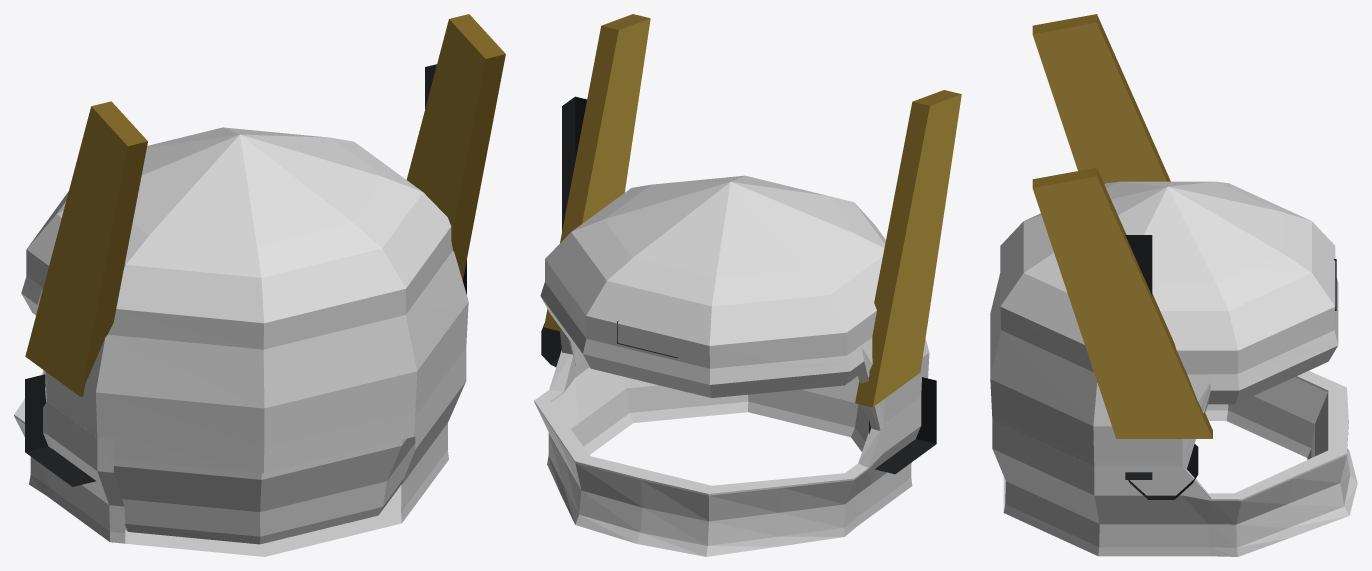
File: person_hat_recon_helm_prestige.obj
The picture shows the model from 3 angles, left to right: view 1: azimuth 30°, elevation 25°; view 2: azimuth 150°, elevation 25°; view 3: azimuth 270°, elevation 25°; orthographic projection. The views are drawn at different scales.
Parts seen in each view (by area): view 1: object 2, person_hat_recon_helm_prestige_addons; view 2: object 2, person_hat_recon_helm_prestige_addons; view 3: object 2, person_hat_recon_helm_prestige_addons.
Boxes of the visible parts, x1,y1,x2,y2 form: object 2: (14,64,468,556); person_hat_recon_helm_prestige_addons: (25,14,505,396); object 2: (534,96,936,556); person_hat_recon_helm_prestige_addons: (544,14,961,407); object 2: (990,181,1357,556); person_hat_recon_helm_prestige_addons: (1032,14,1212,438).
Bounding box in the file's own units: 0.6398 × 0.665 × 0.5701.
